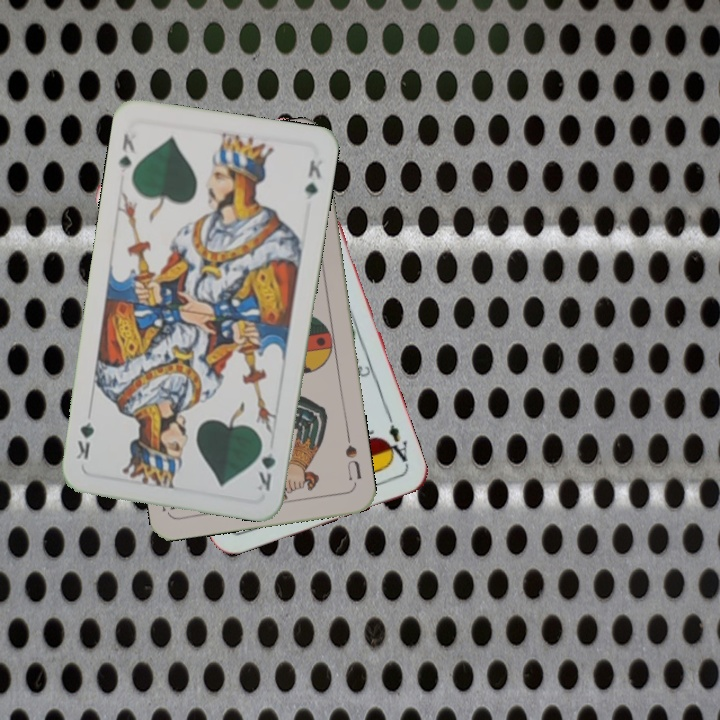EA: (380, 420, 411, 469)
GK: (252, 436, 279, 494), (115, 130, 139, 171)
SU: (341, 429, 364, 488)
